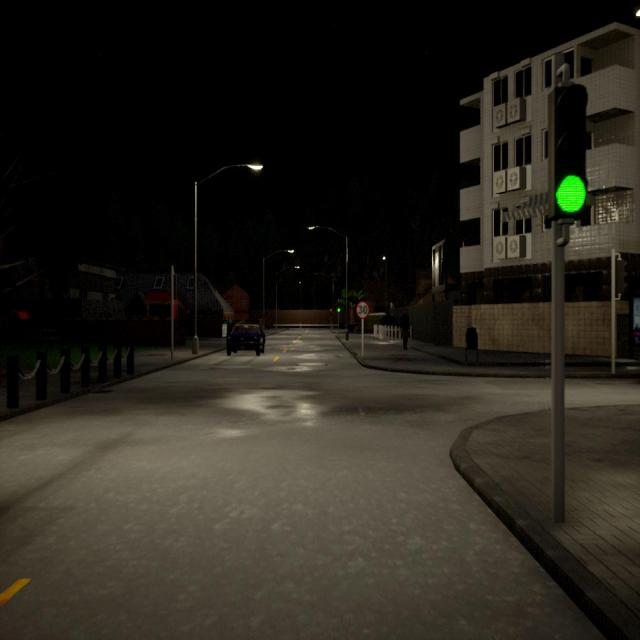Pedestrian: (400, 310, 410, 349)
Traffic_Signs: (356, 302, 369, 318)
Vehicle: (226, 324, 265, 356)
traffic_light: (548, 85, 590, 222), (614, 259, 627, 297), (174, 274, 178, 299), (338, 302, 340, 313), (330, 308, 332, 316)
